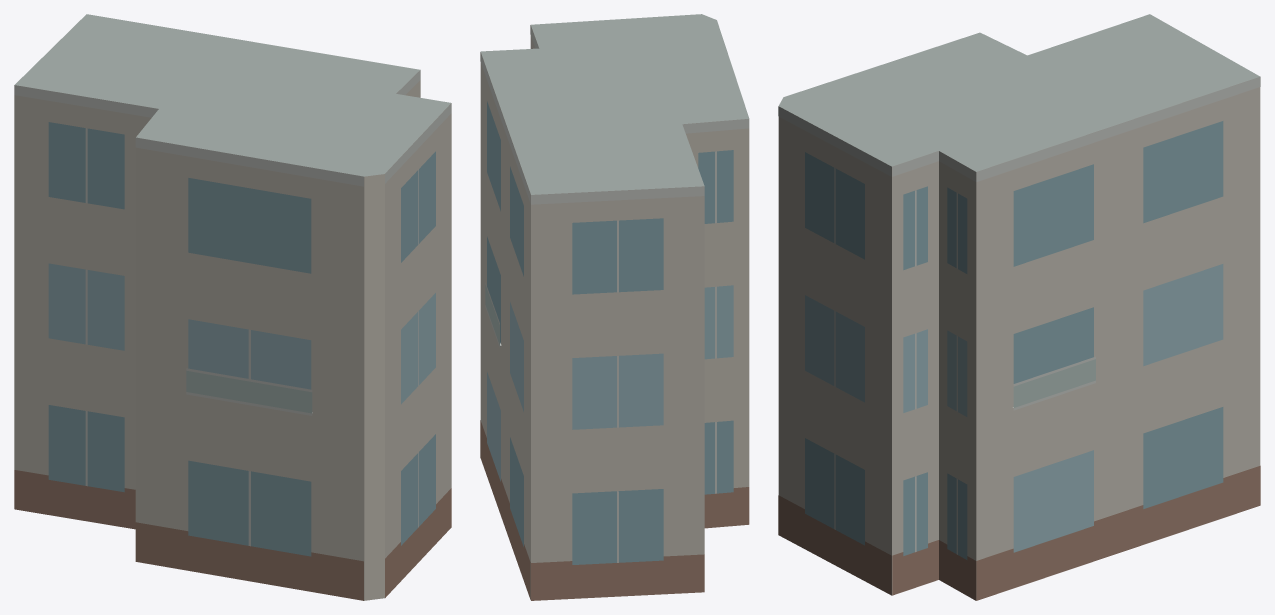
File: survey-upis-32509689.glb
3 views of the same model, side by side, from view 1: azimuth 30°, elevation 25°; view 2: azimuth 150°, elevation 25°; view 3: azimuth 270°, elevation 25° (orthographic). The views are drawn at different scales.
Visible parts, largest first — view 1: survey-upis-32509689.tmp; view 2: survey-upis-32509689.tmp; view 3: survey-upis-32509689.tmp.
Part boxes in pixels (<box>): survey-upis-32509689.tmp: <box>14,14,451,600</box>; survey-upis-32509689.tmp: <box>480,14,749,600</box>; survey-upis-32509689.tmp: <box>778,14,1260,600</box>.
Size of the model in its own units: 8.07 by 10.2 by 10.4.
